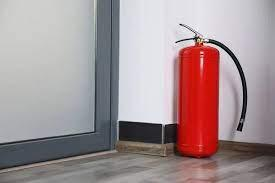floor-kept: (166, 19, 257, 161)
